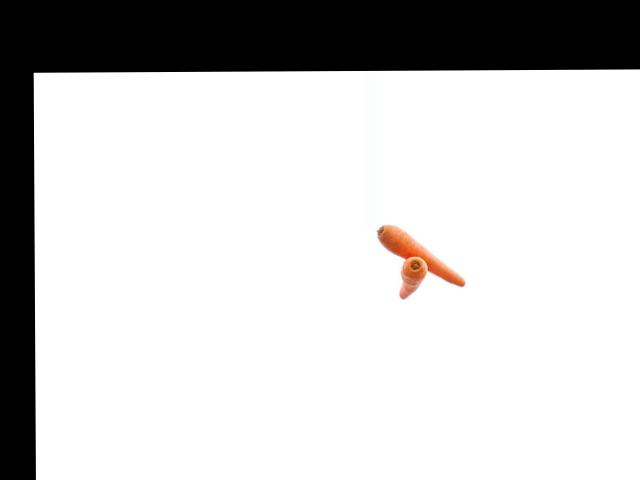carrot: (393, 253, 427, 301)
